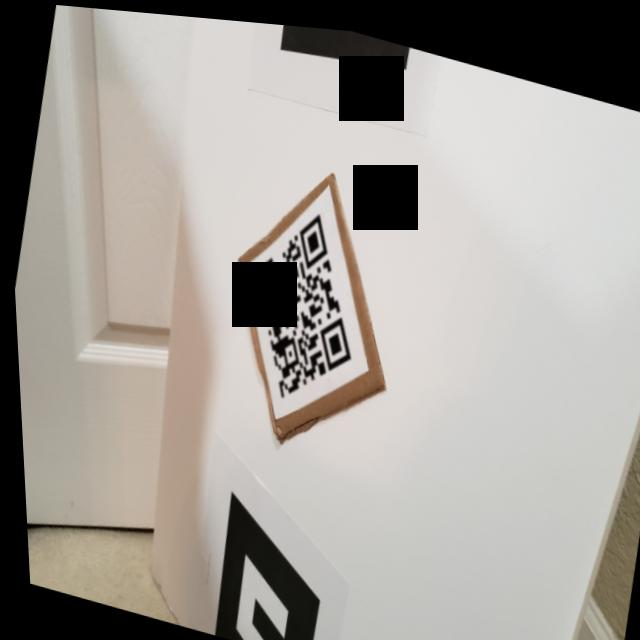QR_CODE: (220, 176, 394, 423)
